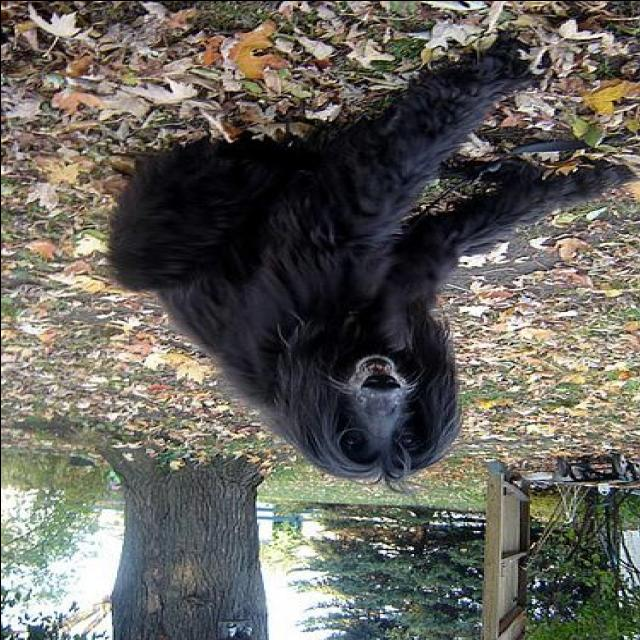afghan_hound: (106, 48, 640, 486)
